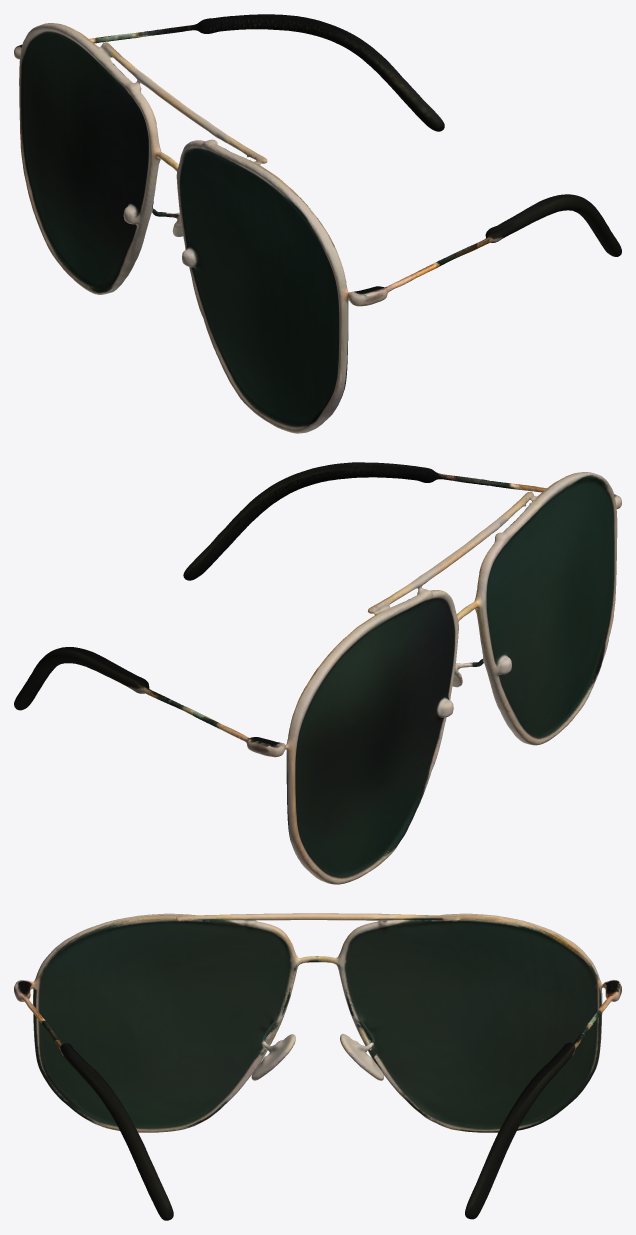
Rendered from try.glb.
The picture shows the model from 3 angles, top to bottom: view 1: azimuth 30°, elevation 25°; view 2: azimuth 150°, elevation 25°; view 3: azimuth 270°, elevation 25°; orthographic projection. The views are drawn at different scales.
Visible parts, largest first — view 1: tripo_node_ff2a8f7c-f65a-4cd0-a457-feedfc16a624; view 2: tripo_node_ff2a8f7c-f65a-4cd0-a457-feedfc16a624; view 3: tripo_node_ff2a8f7c-f65a-4cd0-a457-feedfc16a624.
Boxes of the visible parts, x1,y1,x2,y2 form: tripo_node_ff2a8f7c-f65a-4cd0-a457-feedfc16a624: (14,14,621,433); tripo_node_ff2a8f7c-f65a-4cd0-a457-feedfc16a624: (14,462,621,884); tripo_node_ff2a8f7c-f65a-4cd0-a457-feedfc16a624: (14,913,621,1220).
Bounding box in the file's own units: 0.6042 × 0.3776 × 0.9494.
Materials: 1 (1 with a texture image).
